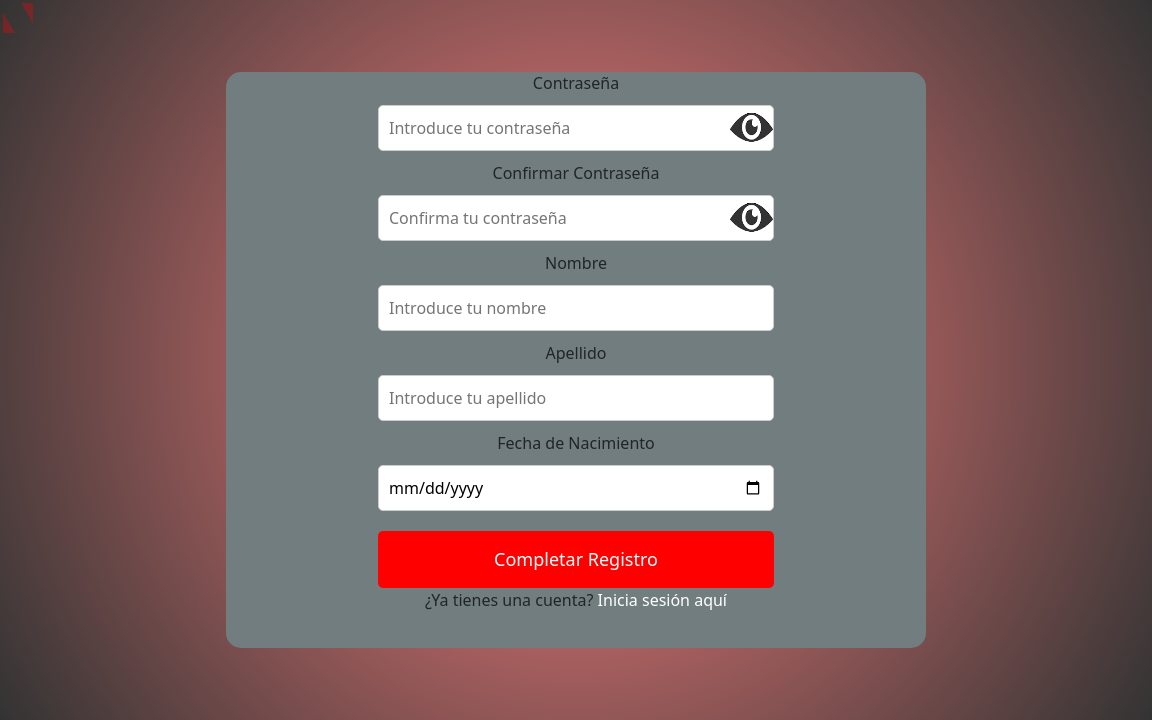
Test: Página de registro › Muestra error si los campos están vacíos al enviar
(page scrolled)
Click the submit button at (576, 560), box [378, 531, 774, 588]
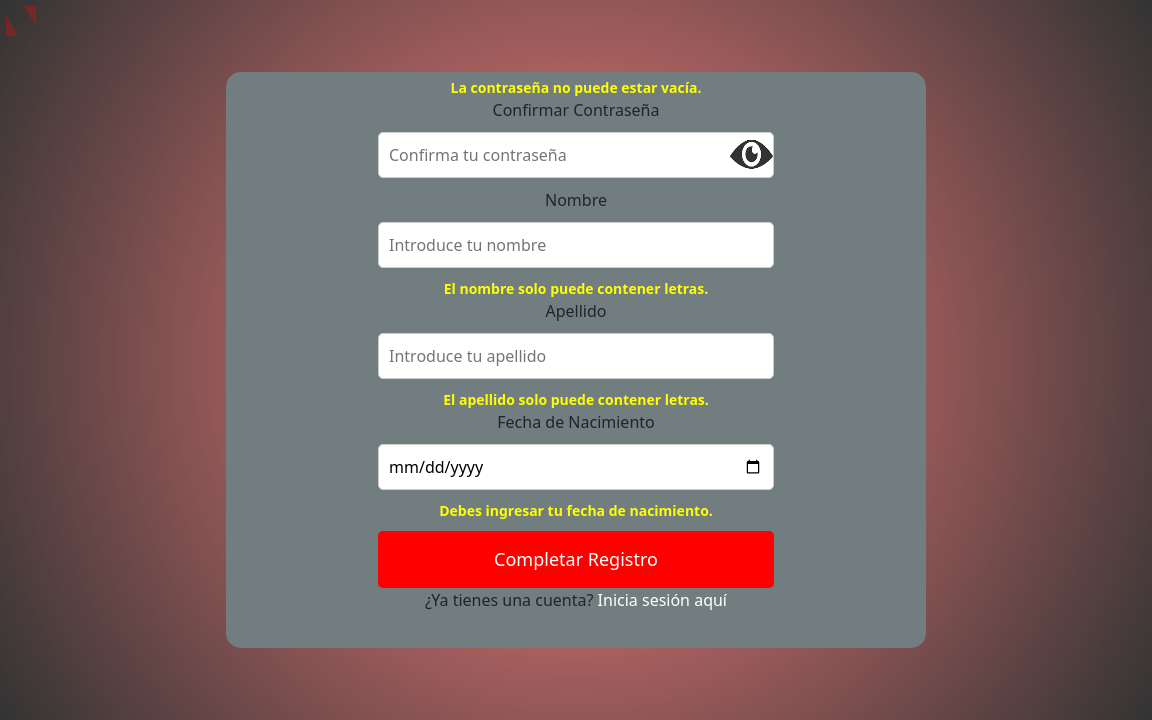
Result: the text "La contraseña no puede estar vacía." is shown at [450, 78, 701, 97]
Result: the text "El nombre solo puede contener letras." is shown at [444, 279, 708, 298]
Result: the text "El apellido solo puede contener letras." is shown at [443, 390, 709, 409]
